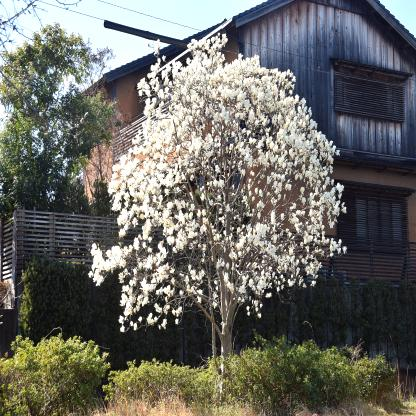Mokuren: (88, 31, 347, 338)
